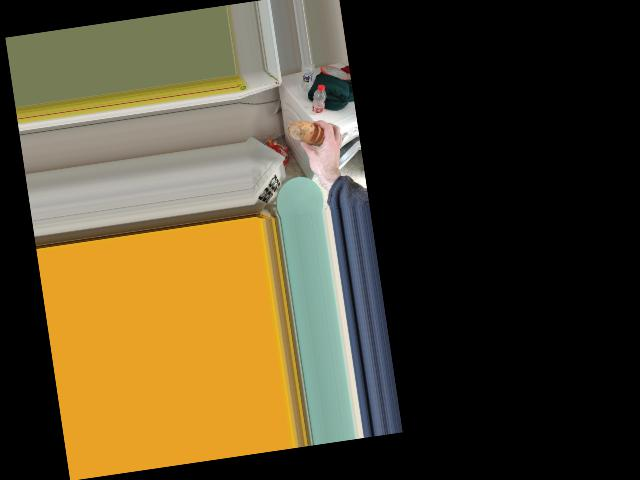sweet_potato: (293, 117, 325, 149)
